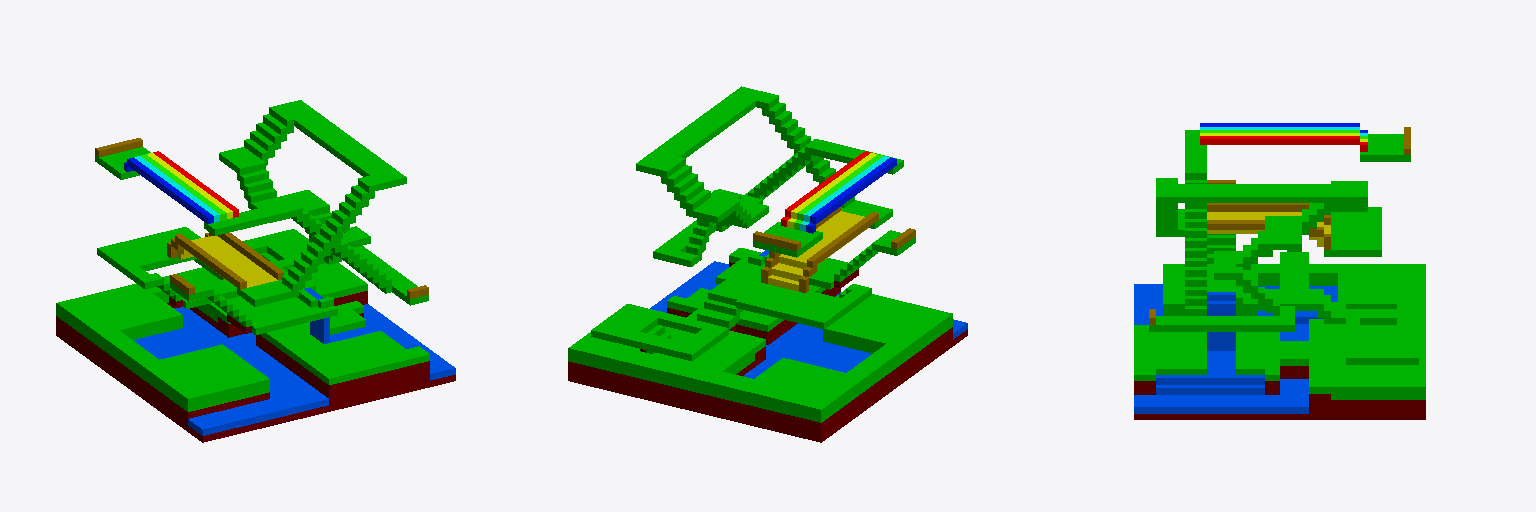
The picture shows the model from 3 angles: view 1: azimuth 30°, elevation 25°; view 2: azimuth 150°, elevation 25°; view 3: azimuth 270°, elevation 25°; orthographic projection.
Visible parts, largest first — view 1: livello1; view 2: livello1; view 3: livello1.
Part boxes in pixels (x1,y1,x2,y2): livello1: (56, 100, 455, 442); livello1: (568, 86, 967, 442); livello1: (1134, 123, 1425, 419).
Size of the model in its own units: 40 by 31 by 40.
Materials: 1 (1 with a texture image).